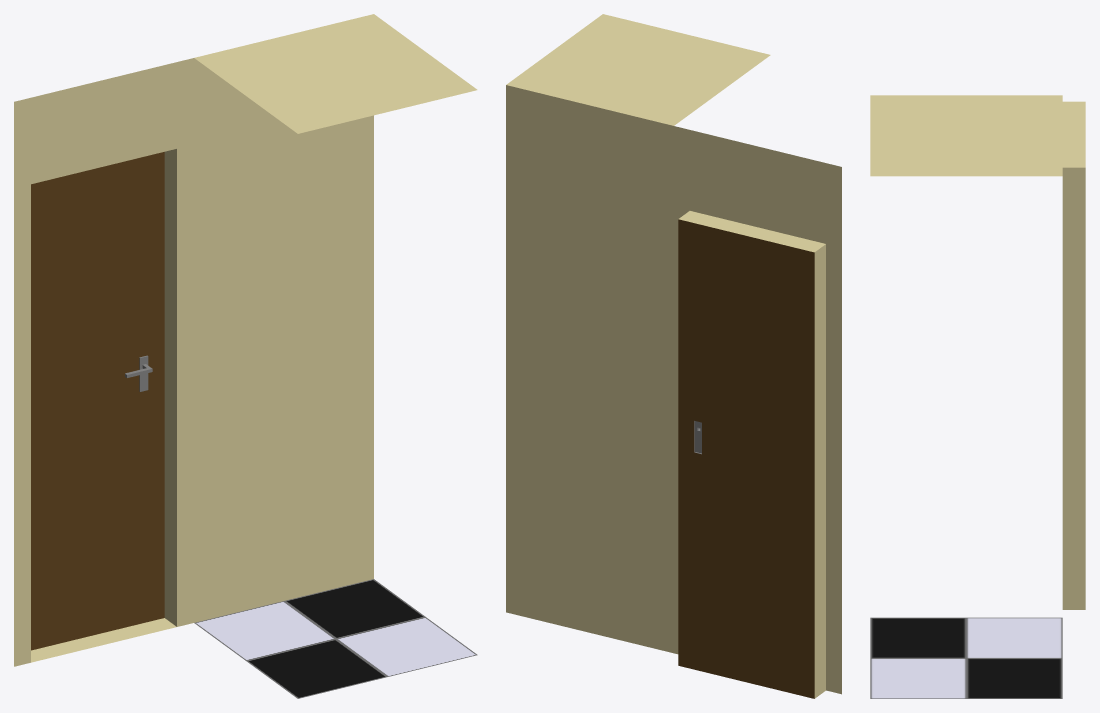
The model's file is surfaces.glb.
3 renders of one model, left to right at view 1: azimuth 30°, elevation 25°; view 2: azimuth 150°, elevation 25°; view 3: azimuth 270°, elevation 25°, orthographic. The views are drawn at different scales.
Visible parts, largest first — view 1: WallDoor, Wall, Floor; view 2: WallDoor, Wall, Floor; view 3: Floor, WallDoor.
Part boxes in pixels (left/top/right/bottom): WallDoor: left=14, top=58, right=193, bottom=666; Wall: left=194, top=58, right=373, bottom=622; Floor: left=194, top=14, right=477, bottom=698; WallDoor: left=674, top=126, right=841, bottom=698; Wall: left=506, top=85, right=673, bottom=653; Floor: left=506, top=14, right=770, bottom=125; Floor: left=870, top=95, right=1062, bottom=698; WallDoor: left=1062, top=101, right=1085, bottom=609.
Size of the model in its own units: 2 by 3 by 1.12.
Materials: 4 (1 with a texture image).
